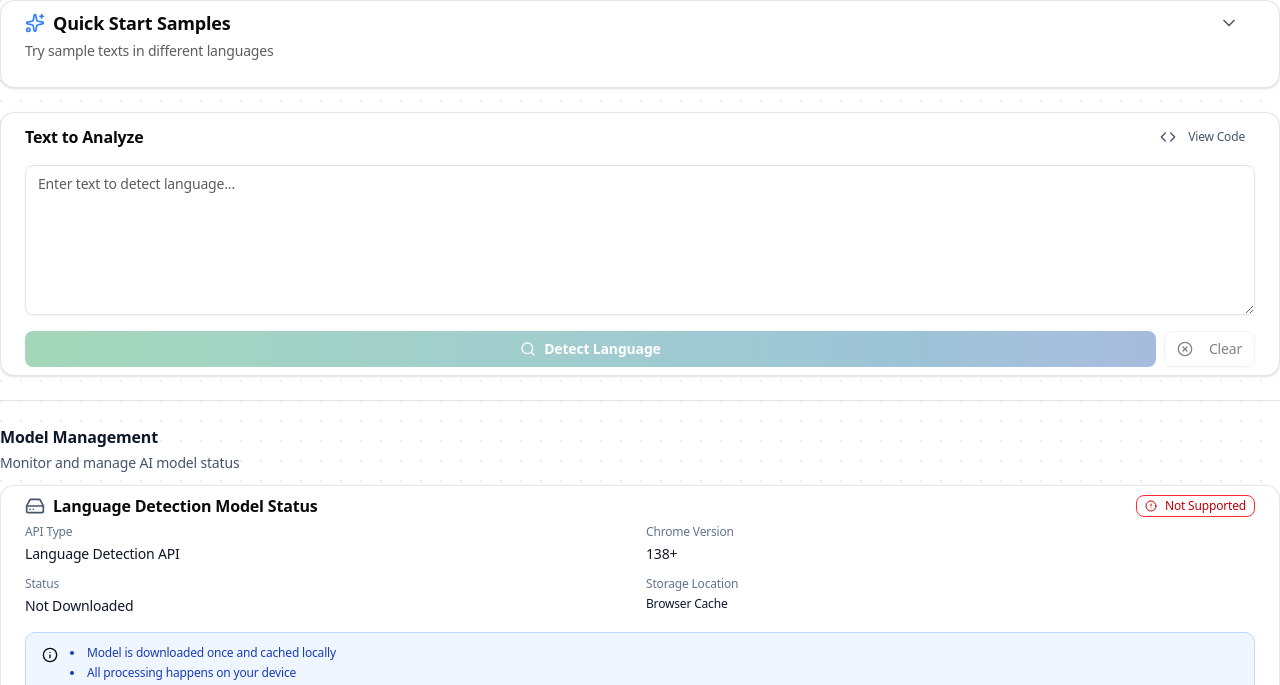
Scenario: Language Detection Integration › Complete Workflow › should clear text and results
Note: Enter text and detect
Type "Test" into the text box.
click(640, 240); type("Test")  # box 25,165 -> 1255,315
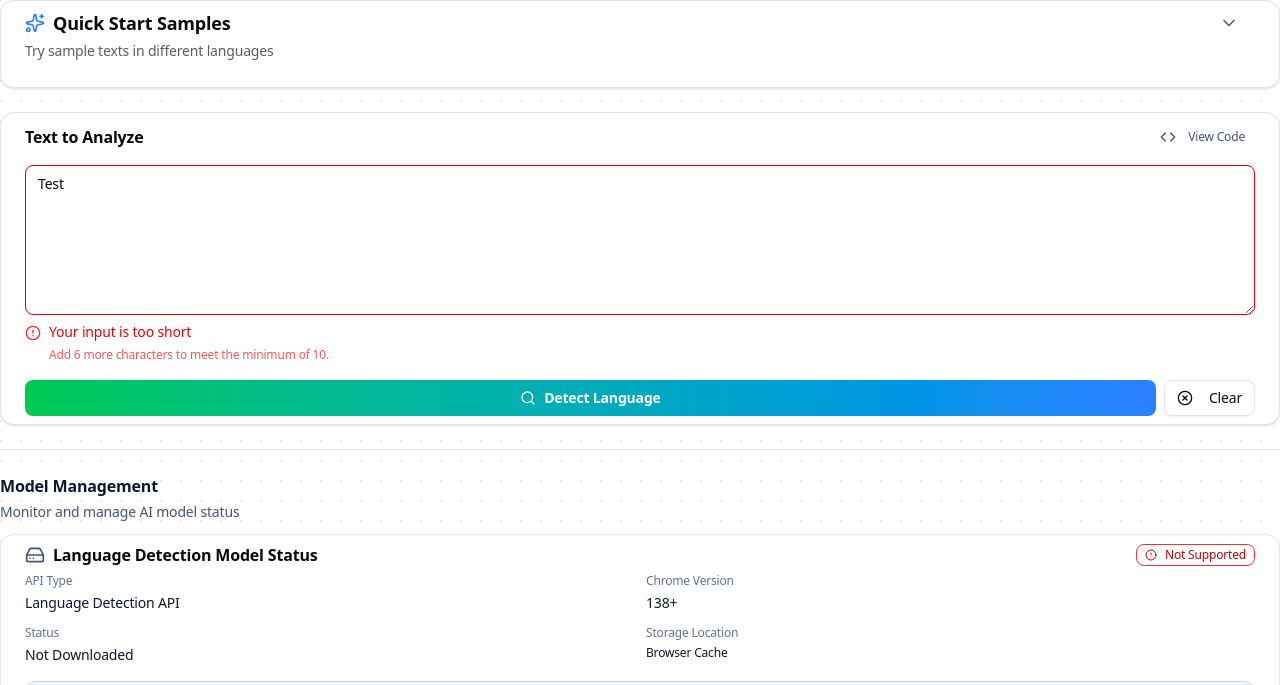
Click the button "Detect Language".
click(590, 398)  # box 25,380 -> 1156,416
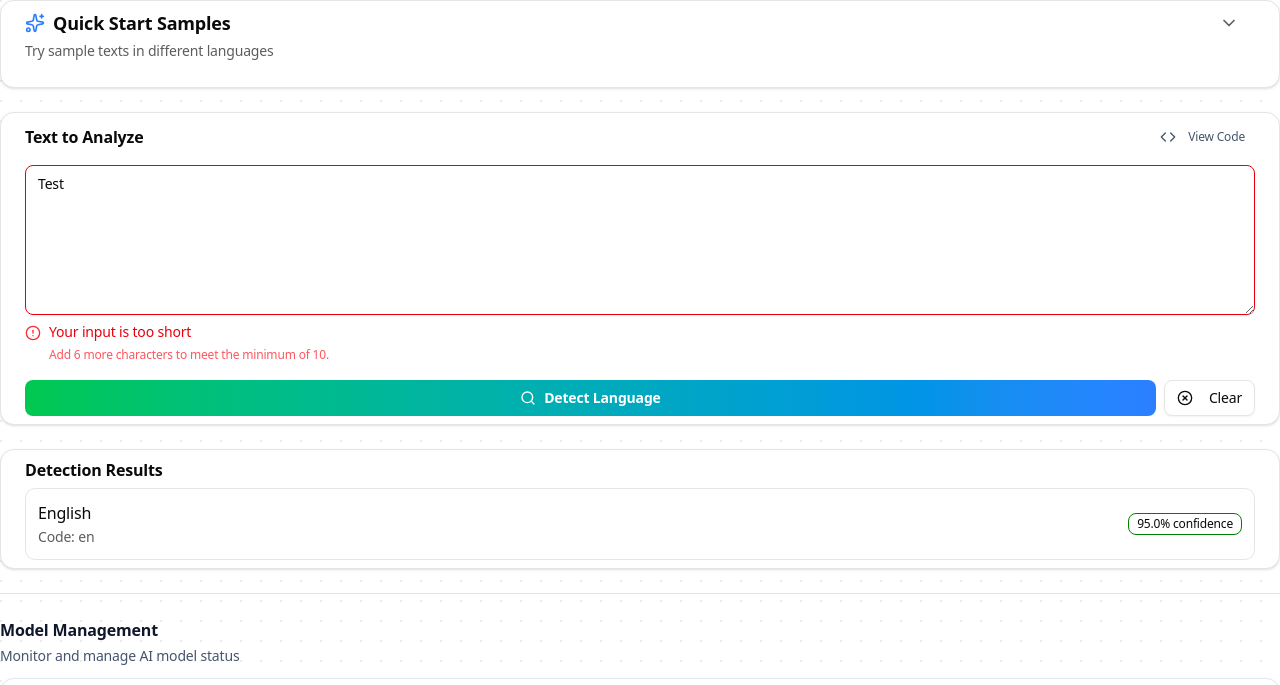
Check: the text "English" is shown, box 38,502 -> 91,524
Click the button "Clear".
click(1209, 398)  # box 1164,380 -> 1255,416
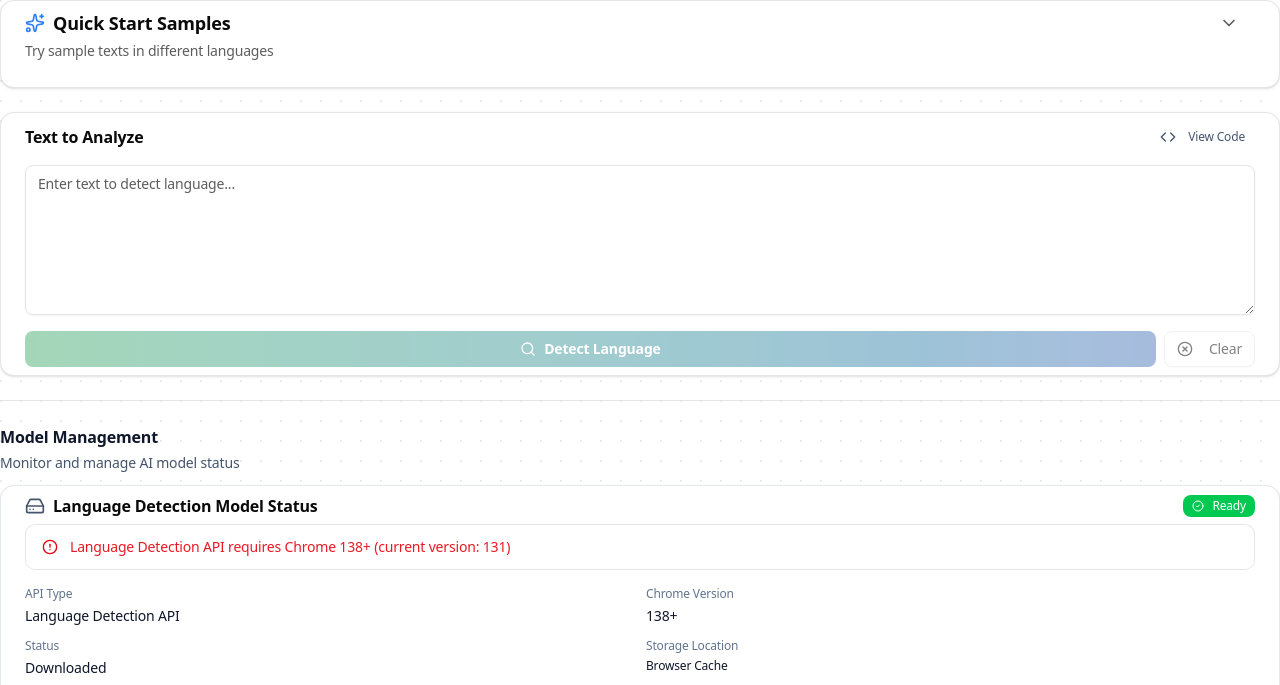
Check: the text box is empty, box 25,165 -> 1255,315
Check: the text "English" is gone
